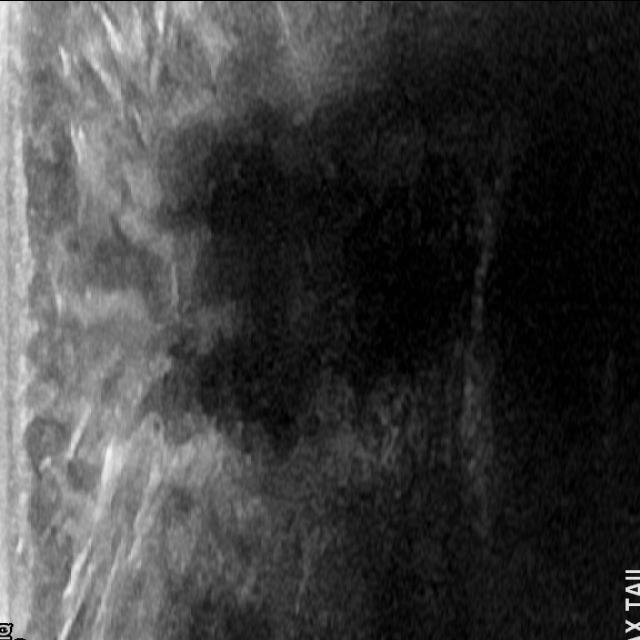Malignant: (152, 113, 360, 434)
